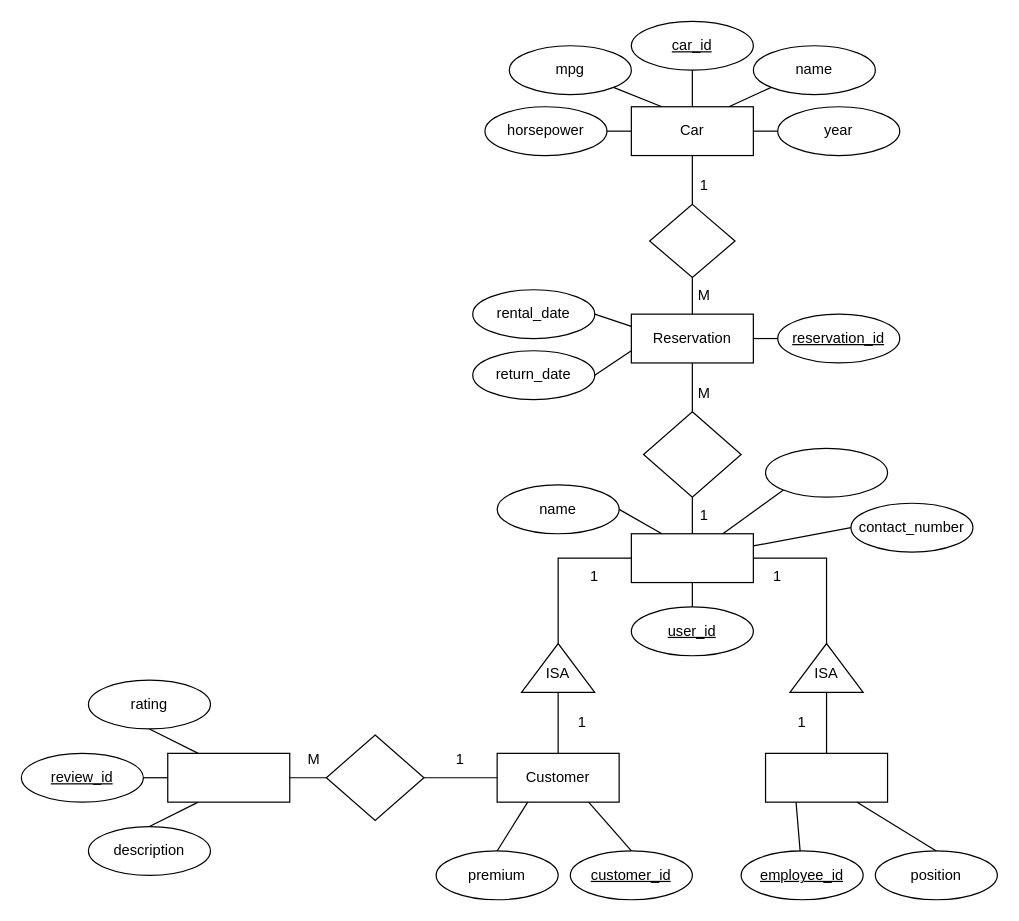
Image size: 1019x921. Some labels were removed from this diagram. The centre of each missing label's shape, as x and y in pixels:
email: point (826, 472)
Employee: point (826, 777)
is made by: point (691, 454)
is of: point (691, 240)
Posts: point (374, 777)
Review: point (228, 777)
User: point (691, 558)
